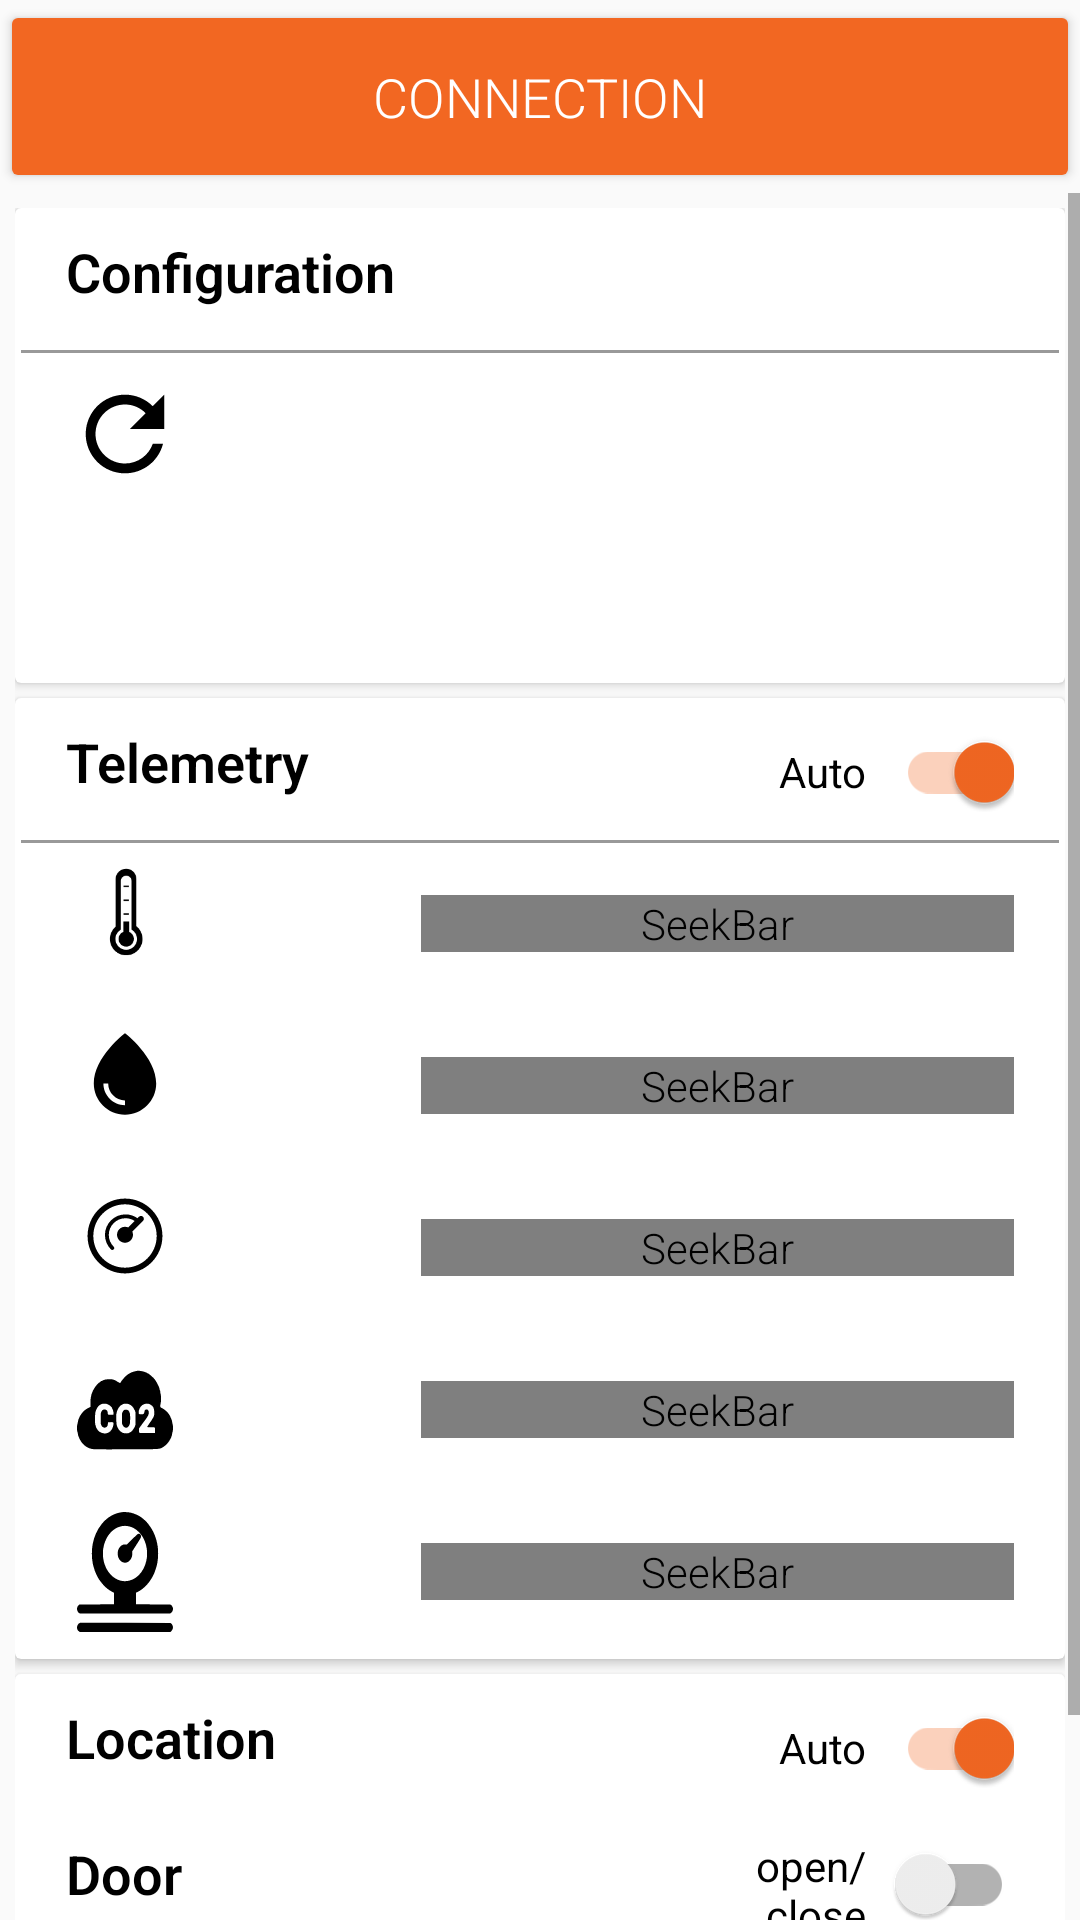

Icon click points for this 1080px x 1920px phone screenshot, format [x,y]:
Hydrometry: [125,1074]
Pressure: [125,1572]
refresh: [125,434]
Revolutions / min: [125,1236]
Temperature: [126,911]
